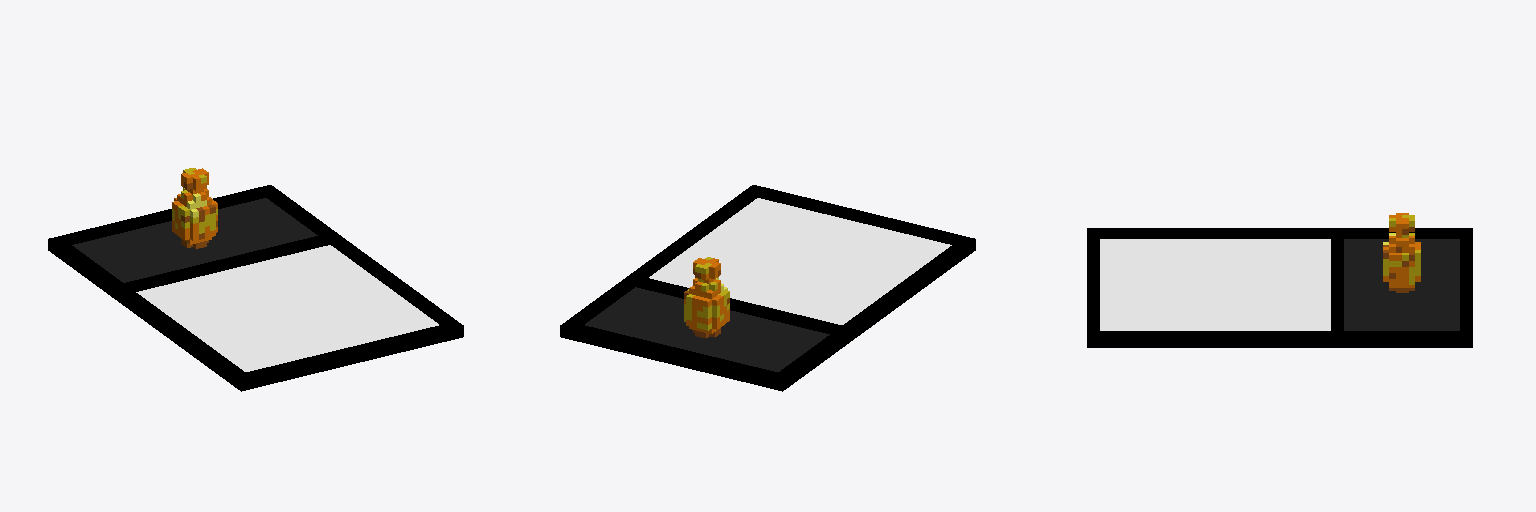
The picture shows the model from 3 angles: view 1: azimuth 30°, elevation 25°; view 2: azimuth 150°, elevation 25°; view 3: azimuth 270°, elevation 25°; orthographic projection.
Visible parts, largest first — view 1: object 1; view 2: object 1; view 3: object 1.
Boxes of the visible parts, x1=… form: object 1: x1=48, y1=168, x2=463, y2=391; object 1: x1=560, y1=185, x2=975, y2=391; object 1: x1=1087, y1=213, x2=1472, y2=347.
Size of the model in its own units: 4 by 1.3 by 6.
Materials: 1 (1 with a texture image).